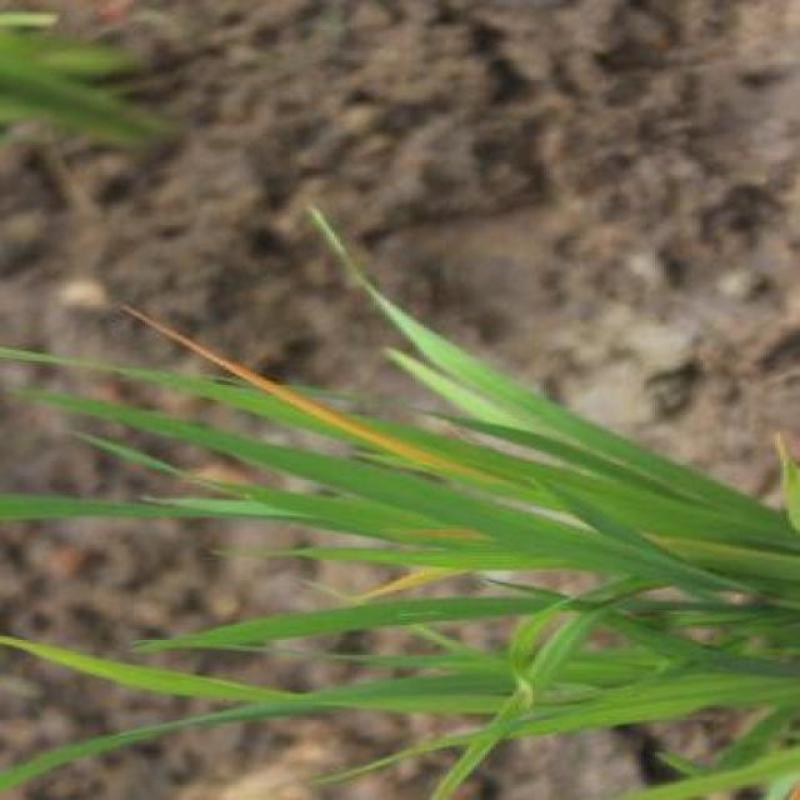Rice Tungro: (95, 297, 279, 372), (285, 385, 395, 445)
